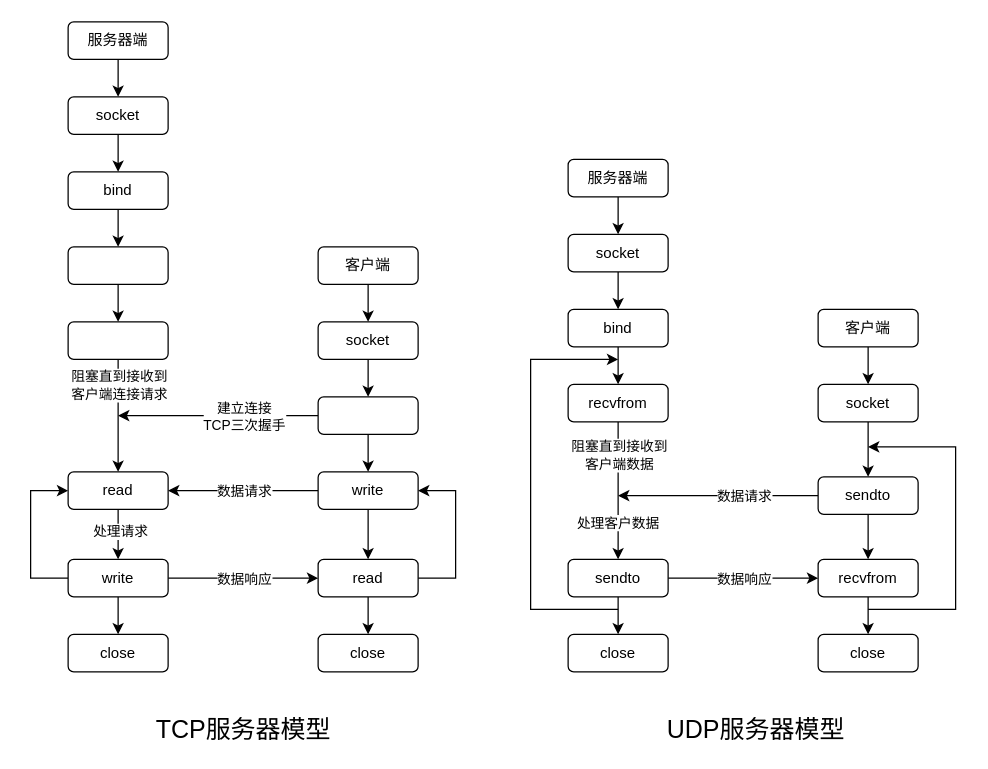
This 988x769 diagram has some shape labels left out. Each missing label, with the centre of its shape:
"accept" belongs at [117,340].
"connect" belongs at [367,415].
"listen" belongs at [117,265].
